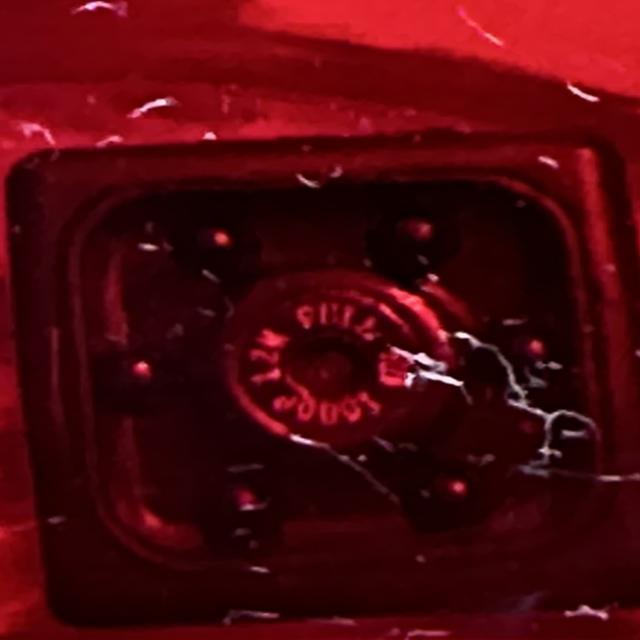hidden camera: (237, 283, 428, 441)
